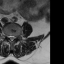CCS_normal: (11, 33, 12, 43)
LFS_stenosis: (15, 33, 17, 40)
LLS_normal: (12, 33, 15, 41)
RFS_normal: (6, 32, 9, 39)
RLS_normal: (9, 33, 11, 41)
